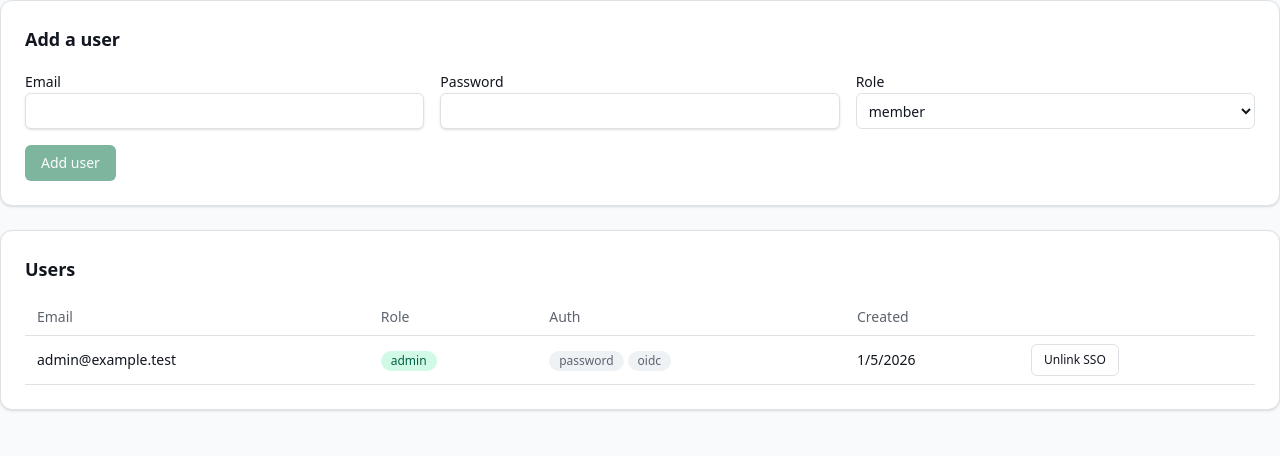
Users › shows why the server refused the unlink
Click the button "Unlink SSO": (1075, 360) [1031, 344, 1119, 376]
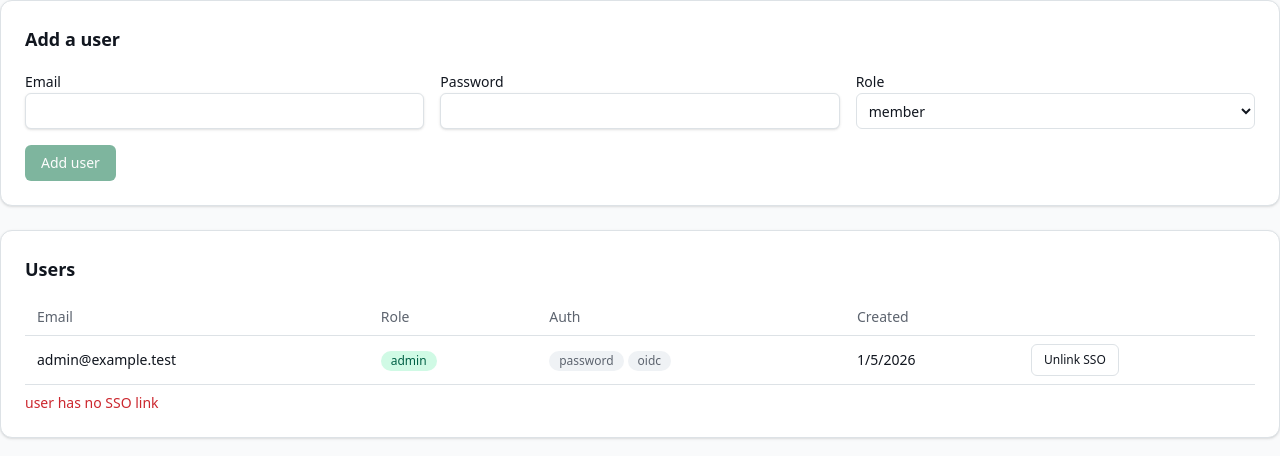
Check: the text "user has no SSO link" is shown, box [25, 393, 159, 412]
